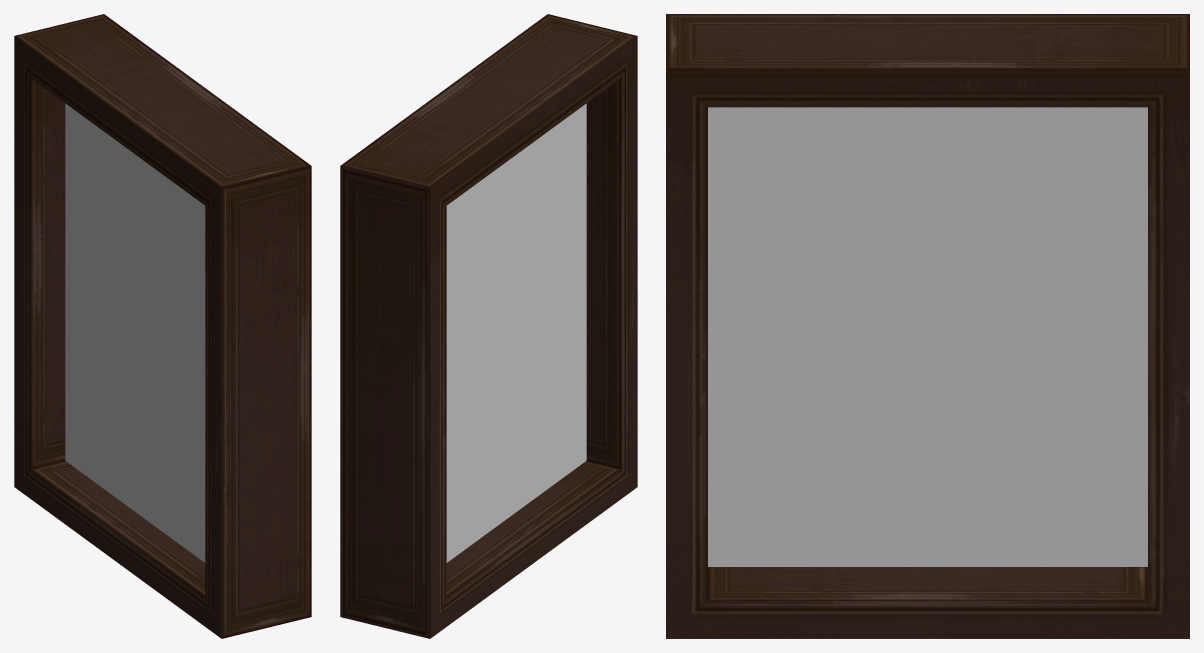
Rendered from window_m1.fbx.
The picture shows the model from 3 angles, left to right: view 1: azimuth 30°, elevation 25°; view 2: azimuth 150°, elevation 25°; view 3: azimuth 270°, elevation 25°; orthographic projection. The views are drawn at different scales.
Visible parts, largest first — view 1: Frame, Window1Cut; view 2: Frame, Window1Cut; view 3: Window1Cut, Frame.
Boxes of the visible parts, box(x1,y1,x2,y2) form: Frame: box(14, 14, 311, 638); Window1Cut: box(65, 103, 205, 562); Frame: box(340, 14, 637, 638); Window1Cut: box(446, 103, 586, 562); Window1Cut: box(708, 107, 1147, 566); Frame: box(666, 14, 1189, 638).
Bounding box in the file's own units: 2 × 0.5 × 2.4.
